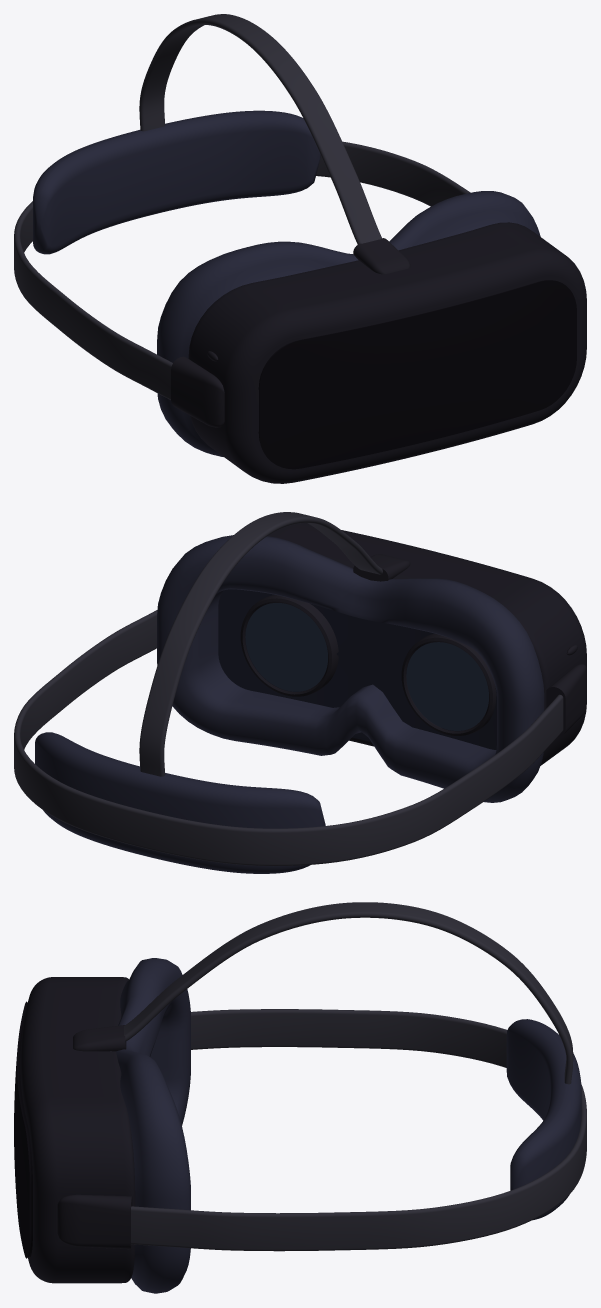
The model's file is visore.glb.
3 renders of one model, top to bottom at view 1: azimuth 30°, elevation 25°; view 2: azimuth 150°, elevation 25°; view 3: azimuth 270°, elevation 25°, orthographic.
Parts seen in each view (by area): view 1: front_panel, body, rear_cushion, face_gasket, rear_strap, top_strap, strap_mount_L, strap_mount; view 2: face_gasket, rear_strap, body, rear_cushion, top_strap, lens_L, lens_R, lens_barrel_R, lens_barrel_L, strap_mount_L, strap_mount; view 3: rear_strap, body, face_gasket, rear_cushion, top_strap, strap_mount_R, front_panel, strap_mount.
Part boxes in pixels (box(x1,y1,x2,y2)): front_panel: box(258, 280, 576, 469); body: box(188, 222, 586, 483); rear_cushion: box(33, 110, 320, 254); face_gasket: box(157, 191, 540, 456); rear_strap: box(14, 141, 470, 399); top_strap: box(139, 14, 381, 244); strap_mount_L: box(171, 356, 224, 427); strap_mount: box(353, 238, 410, 274); face_gasket: box(157, 535, 544, 802); rear_strap: box(14, 610, 563, 865); body: box(218, 523, 586, 765); rear_cushion: box(35, 732, 325, 873); top_strap: box(139, 512, 382, 776); lens_L: box(406, 642, 488, 730); lens_R: box(245, 603, 327, 691); lens_barrel_R: box(240, 595, 338, 696); lens_barrel_L: box(401, 633, 496, 735); strap_mount_L: box(546, 664, 586, 737); strap_mount: box(353, 554, 410, 581); rear_strap: box(131, 1009, 586, 1251); body: box(20, 977, 135, 1283); face_gasket: box(116, 958, 190, 1293); rear_cushion: box(506, 1019, 581, 1220); top_strap: box(124, 902, 573, 1084); strap_mount_R: box(57, 1194, 132, 1249); front_panel: box(14, 1001, 32, 1258); strap_mount: box(73, 1025, 126, 1051).
Size of the model in its own units: 1.66 by 1.2 by 1.95.
